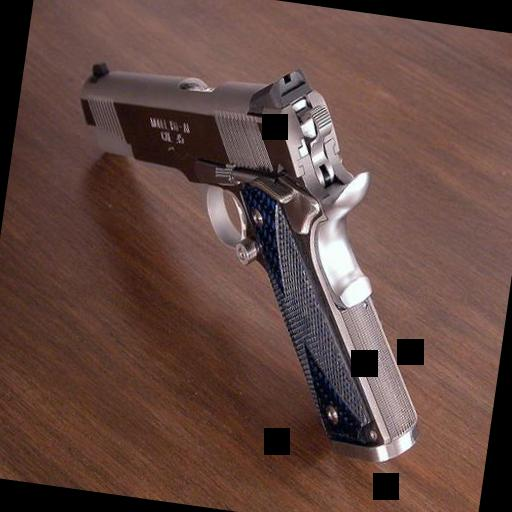Handgun: (31, 36, 465, 474)
